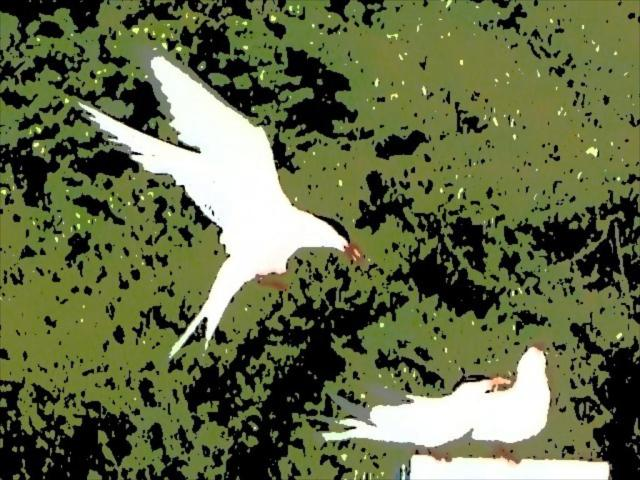Bird: (76, 35, 363, 360), (406, 341, 553, 465), (322, 373, 510, 460)
